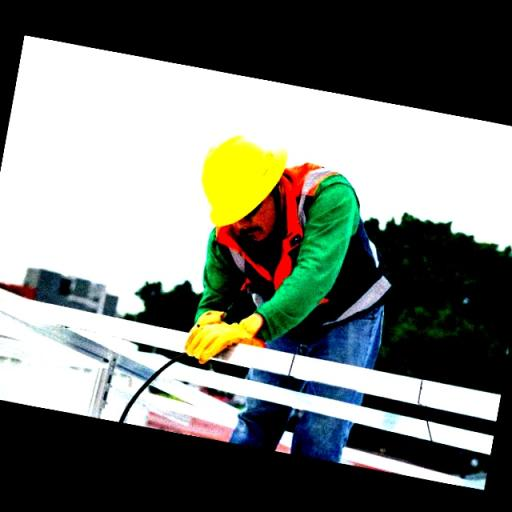Person: (162, 125, 444, 458)
gloves: (186, 314, 271, 370), (189, 307, 228, 341)
helmet: (202, 132, 286, 223)
vest: (204, 157, 398, 343)
